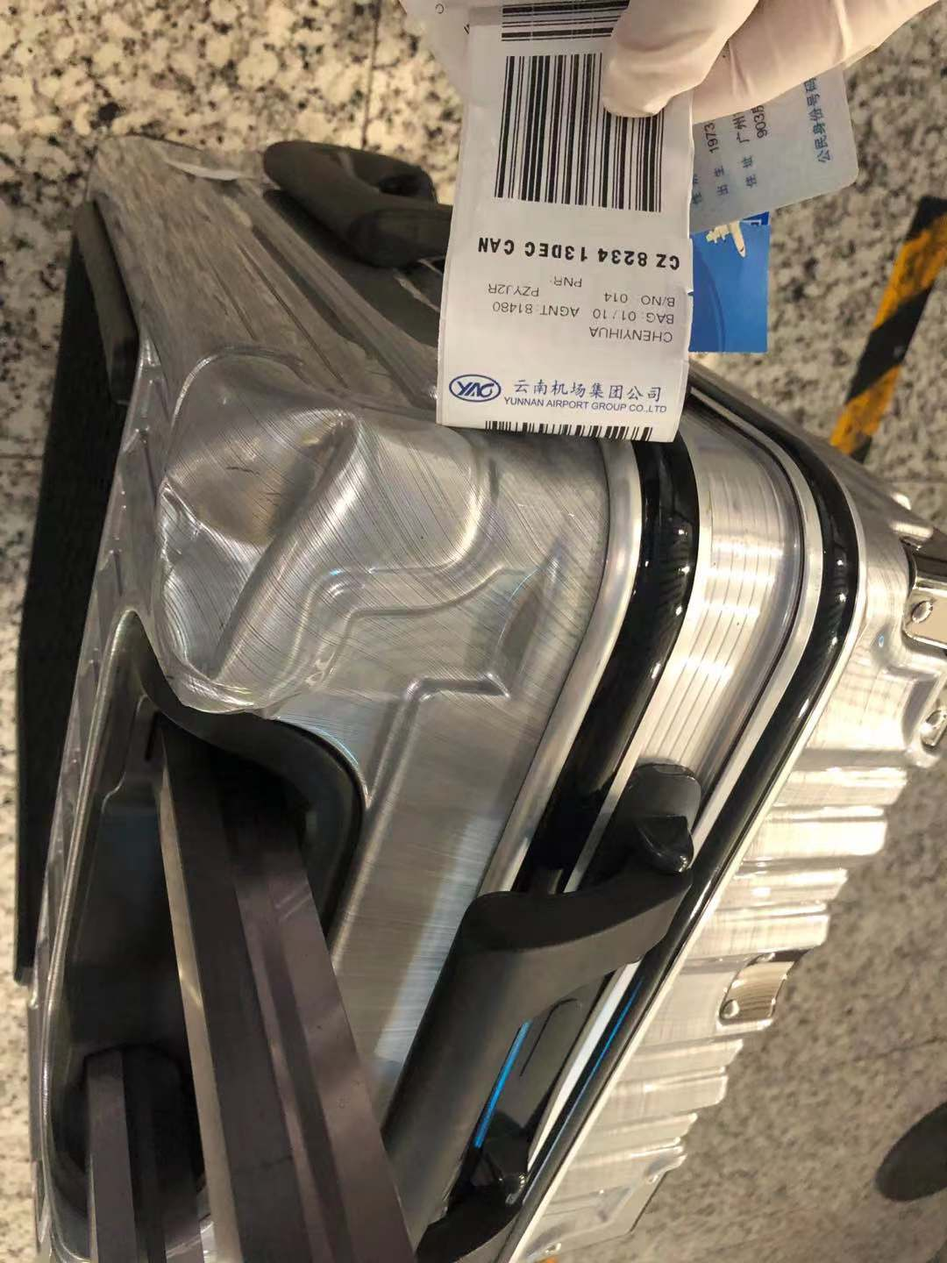rupture: (153, 405, 360, 682)
